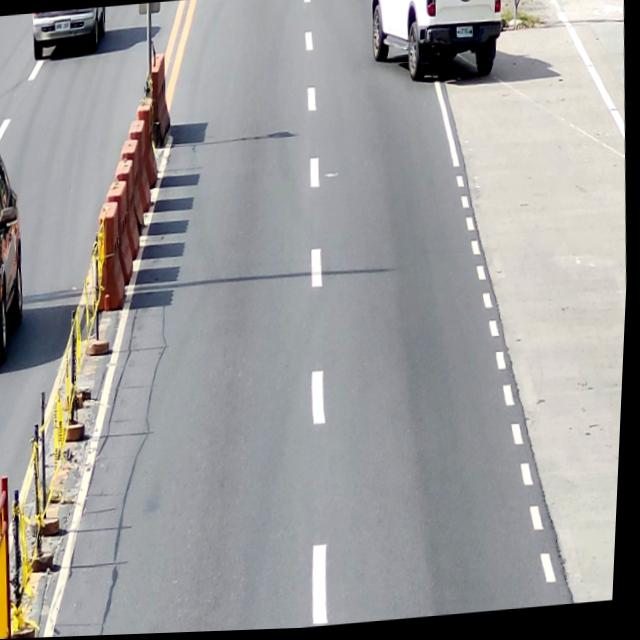Bus: (54, 15, 73, 37), (454, 26, 476, 44)
Car: (367, 0, 528, 89), (0, 140, 34, 365), (31, 7, 108, 61)
License-Plate: (456, 28, 474, 43)
